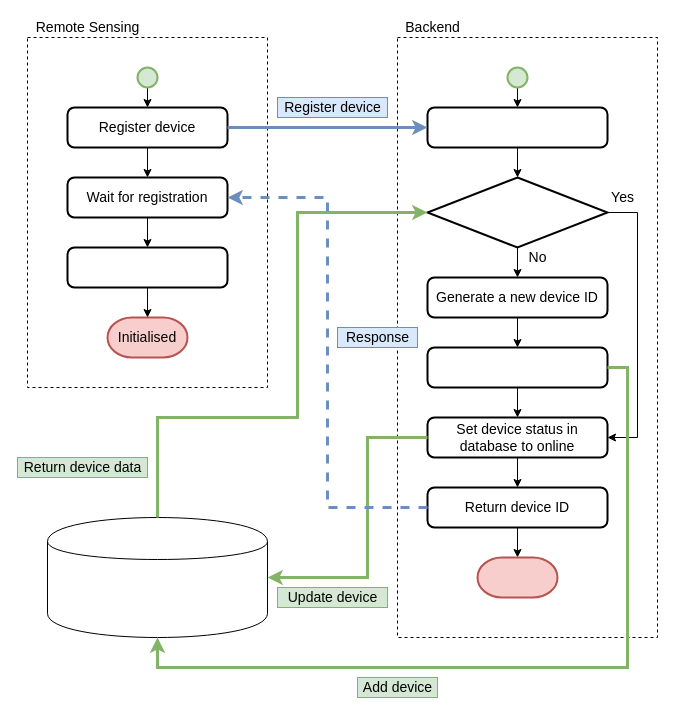
Some shapes in this 675 by 715 pixel diagram are drawn without their labels. The shapes that lost their labels are listed below. From the top down, each one's box as (x1, y1, x2, y2) in pixels, then its label:
(426, 106, 608, 148): Received registration request
(426, 176, 608, 248): is device in database?
(66, 246, 228, 288): Set/Update device ID
(426, 346, 608, 388): Create a new device in database
(46, 516, 268, 638): On-disk Database
(476, 556, 558, 598): Done
